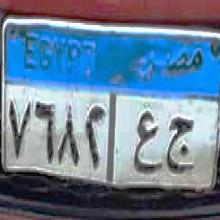2: (86, 101, 105, 174)
6: (37, 100, 54, 160)
7: (8, 102, 33, 153)
8: (58, 99, 78, 165)
ain: (133, 106, 163, 178)
jeem: (165, 107, 196, 177)
